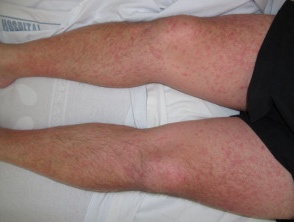SJS-TEN: (12, 3, 257, 108), (85, 99, 294, 222)
